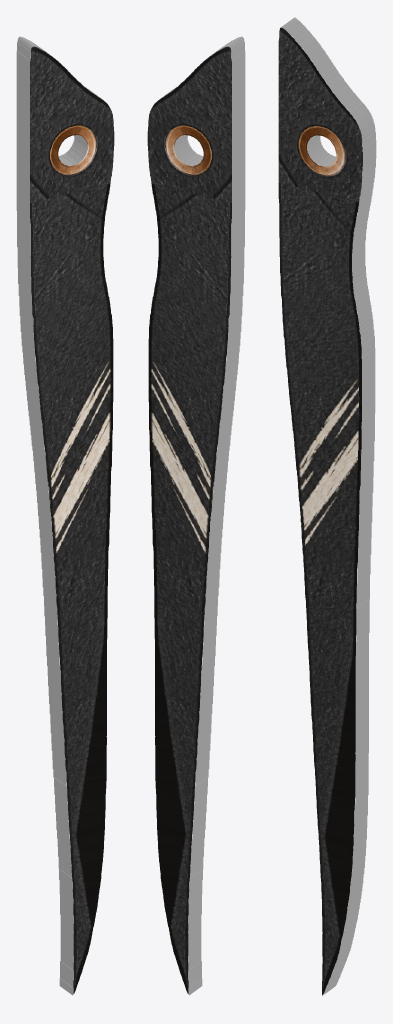
The model's file is LowerLeg.glb.
The picture shows the model from 3 angles, left to right: view 1: azimuth 30°, elevation 25°; view 2: azimuth 150°, elevation 25°; view 3: azimuth 330°, elevation 25°; orthographic projection.
Visible parts, largest first — view 1: PaperVolume; view 2: PaperVolume; view 3: PaperVolume.
Part boxes in pixels (x1,y1,x2,y2): PaperVolume: (16, 36, 114, 995); PaperVolume: (147, 36, 245, 995); PaperVolume: (278, 17, 376, 995).
Size of the model in its own units: 0.3073 by 3.19 by 0.08.
Materials: 3 (2 with a texture image).
